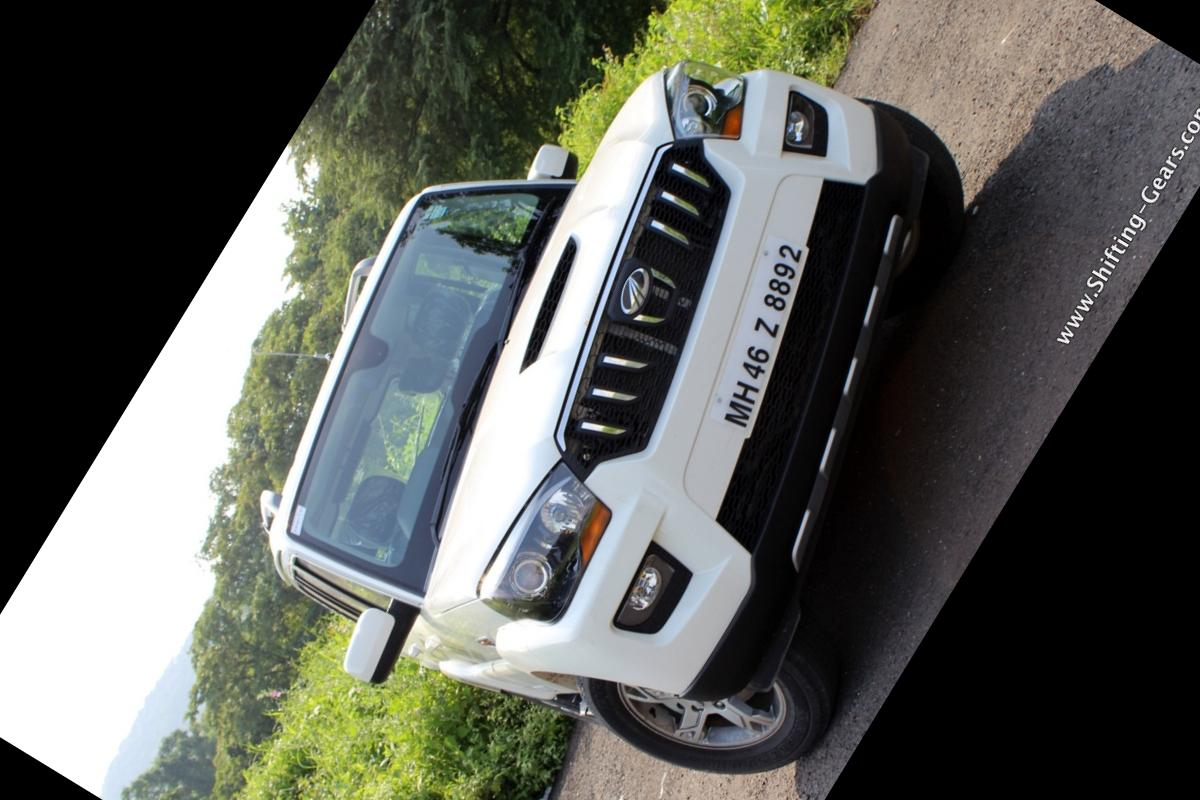plate: (652, 188, 860, 471)
